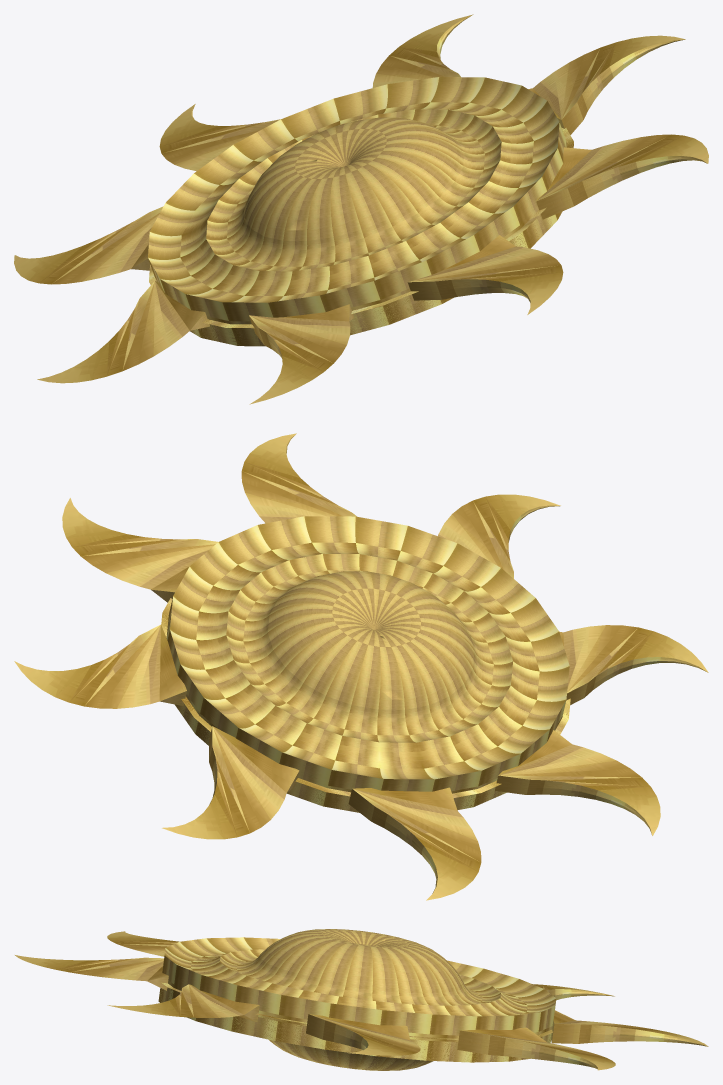
The model's file is SudharshanChakra.obj.
3 renders of one model, top to bottom at view 1: azimuth 30°, elevation 25°; view 2: azimuth 150°, elevation 25°; view 3: azimuth 270°, elevation 25°, orthographic. The views are drawn at different scales.
Parts seen in each view (by area): view 1: group_14.557_ID15163, group_14.558_ID15173, group_14.561_ID15203, group_14.559_ID15183, group_5.069_ID15065, group_2.069_ID15032, group_4.069_ID15054, group_13.069_ID15153, group_6.069_ID15076, group_12.069_ID15142, group_1.559_ID14966, group_10.069_ID15120 (+4 smaller); view 2: group_14.557_ID15163, group_14.558_ID15173, group_14.561_ID15203, group_11.069_ID15131, group_10.069_ID15120, group_6.069_ID15076, group_14.559_ID15183, group_12.069_ID15142, group_5.069_ID15065, group_4.069_ID15054, group_13.069_ID15153, group_2.069_ID15032 (+2 smaller); view 3: group_14.558_ID15173, group_14.557_ID15163, group_14.559_ID15183, group_14.561_ID15203, group_1.559_ID14966, group_12.069_ID15142, group_13.069_ID15153, group_2.069_ID15032, group_11.069_ID15131, group_1.558_ID14956, group_10.069_ID15120, group_11.068_ID14914 (+4 smaller).
Boxes of the visible parts, x1=… form: group_14.557_ID15163: x1=148, y1=77, x2=559, y2=302; group_14.558_ID15173: x1=244, y1=117, x2=457, y2=240; group_14.561_ID15203: x1=206, y1=109, x2=501, y2=271; group_14.559_ID15183: x1=148, y1=123, x2=573, y2=324; group_5.069_ID15065: x1=37, y1=281, x2=207, y2=383; group_2.069_ID15032: x1=407, y1=235, x2=563, y2=314; group_4.069_ID15054: x1=249, y1=304, x2=351, y2=404; group_13.069_ID15153: x1=536, y1=134, x2=708, y2=210; group_6.069_ID15076: x1=14, y1=206, x2=163, y2=284; group_12.069_ID15142: x1=528, y1=35, x2=685, y2=128; group_1.559_ID14966: x1=149, y1=128, x2=573, y2=346; group_10.069_ID15120: x1=159, y1=104, x2=280, y2=171; group_14.557_ID15163: x1=170, y1=516, x2=569, y2=779; group_14.558_ID15173: x1=268, y1=571, x2=474, y2=709; group_14.561_ID15203: x1=226, y1=553, x2=512, y2=742; group_11.069_ID15131: x1=14, y1=624, x2=186, y2=708; group_10.069_ID15120: x1=162, y1=726, x2=299, y2=839; group_6.069_ID15076: x1=350, y1=787, x2=481, y2=900; group_14.559_ID15183: x1=166, y1=597, x2=566, y2=797; group_12.069_ID15142: x1=62, y1=498, x2=217, y2=598; group_5.069_ID15065: x1=496, y1=730, x2=660, y2=835; group_4.069_ID15054: x1=559, y1=625, x2=708, y2=700; group_13.069_ID15153: x1=241, y1=433, x2=356, y2=523; group_2.069_ID15032: x1=438, y1=494, x2=560, y2=578; group_14.558_ID15173: x1=260, y1=929, x2=462, y2=989; group_14.557_ID15163: x1=164, y1=937, x2=556, y2=1016; group_14.559_ID15183: x1=162, y1=955, x2=555, y2=1038; group_14.561_ID15203: x1=220, y1=949, x2=500, y2=1005; group_1.559_ID14966: x1=158, y1=983, x2=552, y2=1062; group_12.069_ID15142: x1=307, y1=1014, x2=420, y2=1055; group_13.069_ID15153: x1=107, y1=984, x2=259, y2=1017; group_2.069_ID15032: x1=15, y1=955, x2=168, y2=983; group_11.069_ID15131: x1=458, y1=1027, x2=615, y2=1070; group_1.558_ID14956: x1=269, y1=1040, x2=433, y2=1070; group_10.069_ID15120: x1=552, y1=1010, x2=708, y2=1046; group_11.068_ID14914: x1=457, y1=1040, x2=597, y2=1068.
Size of the model in its own units: 4.08 by 1.2 by 4.22.
